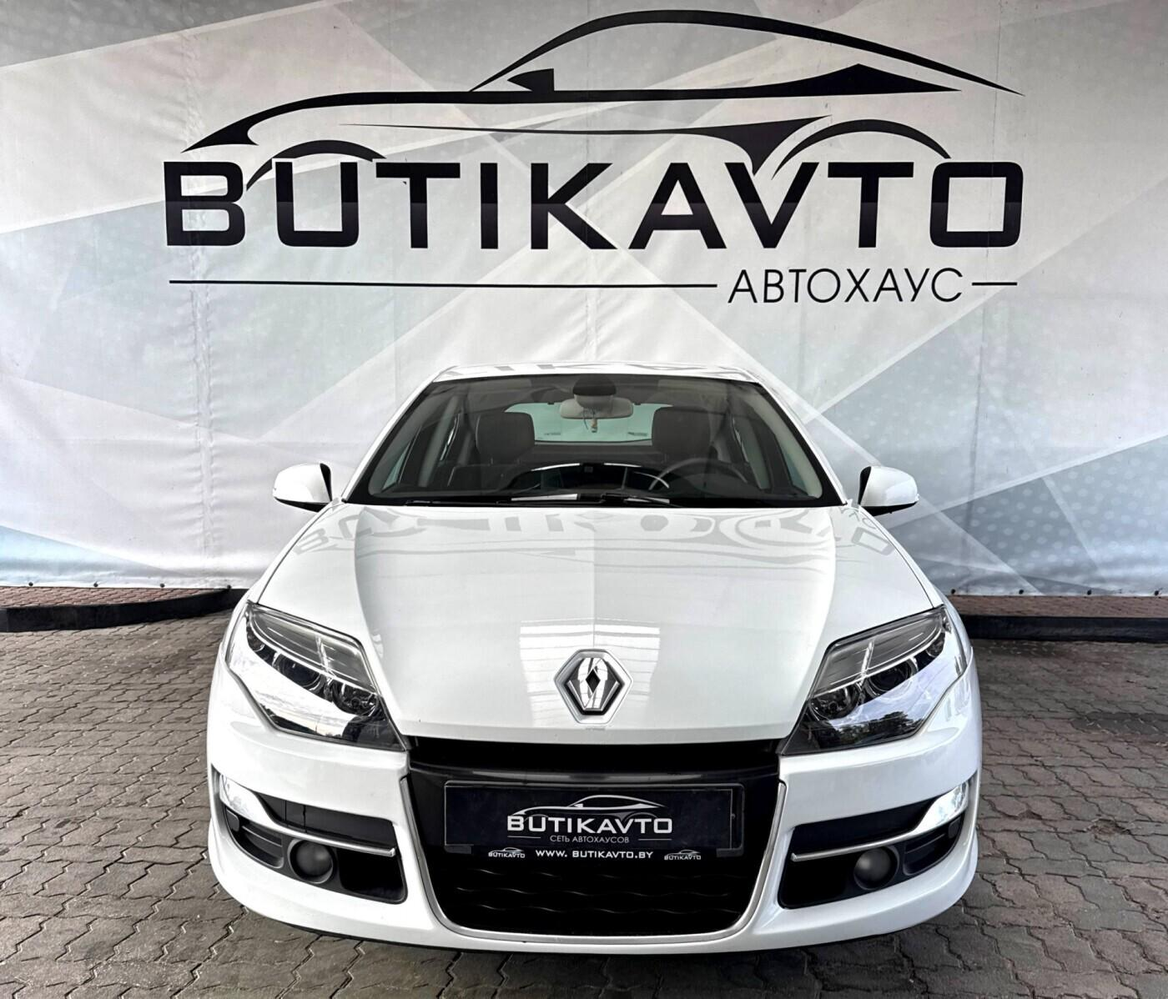Laguna_2010-2015: (200, 361, 997, 960)
